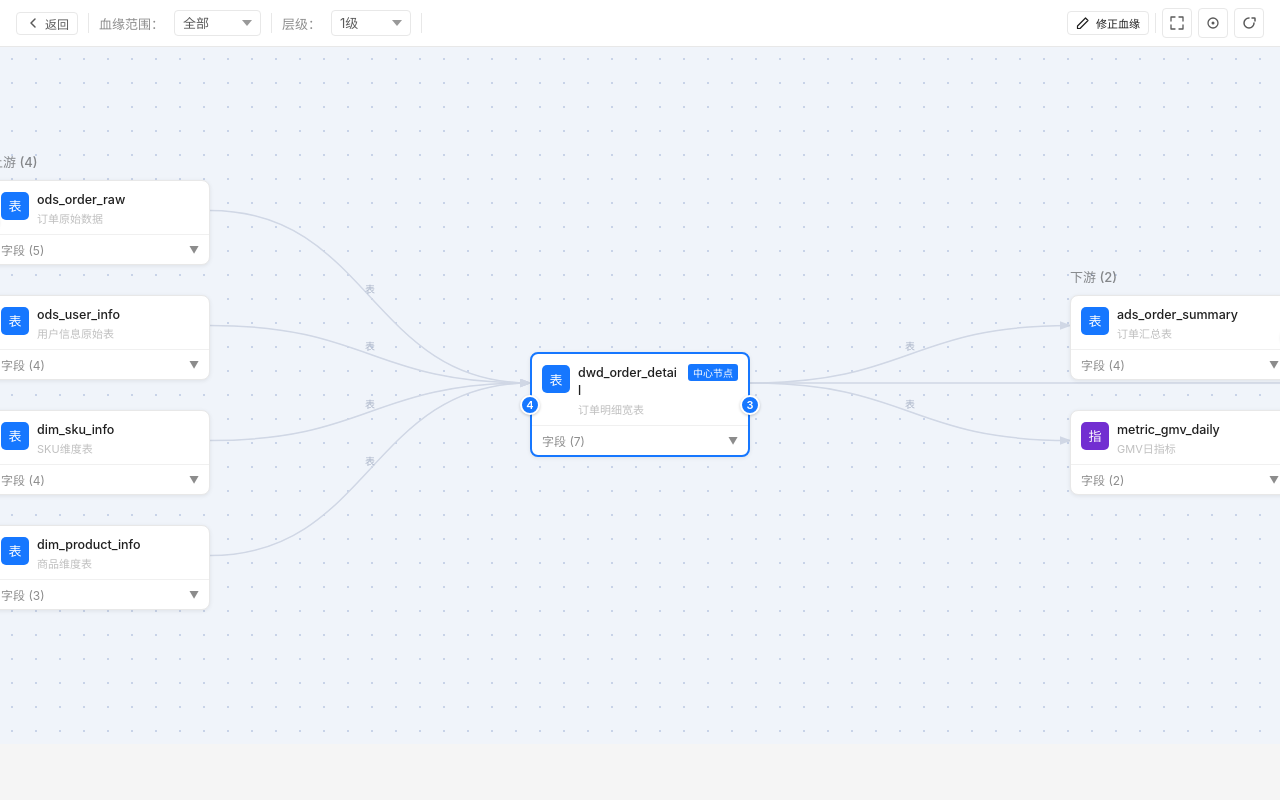
Test case: LineagePage lineage edit approval flow › marks an active field-level lineage row for deletion from the operation column
The width and height of the screenshot is (1280, 800).
Click the button "修正血缘": click(1108, 23) [1067,11,1149,35]
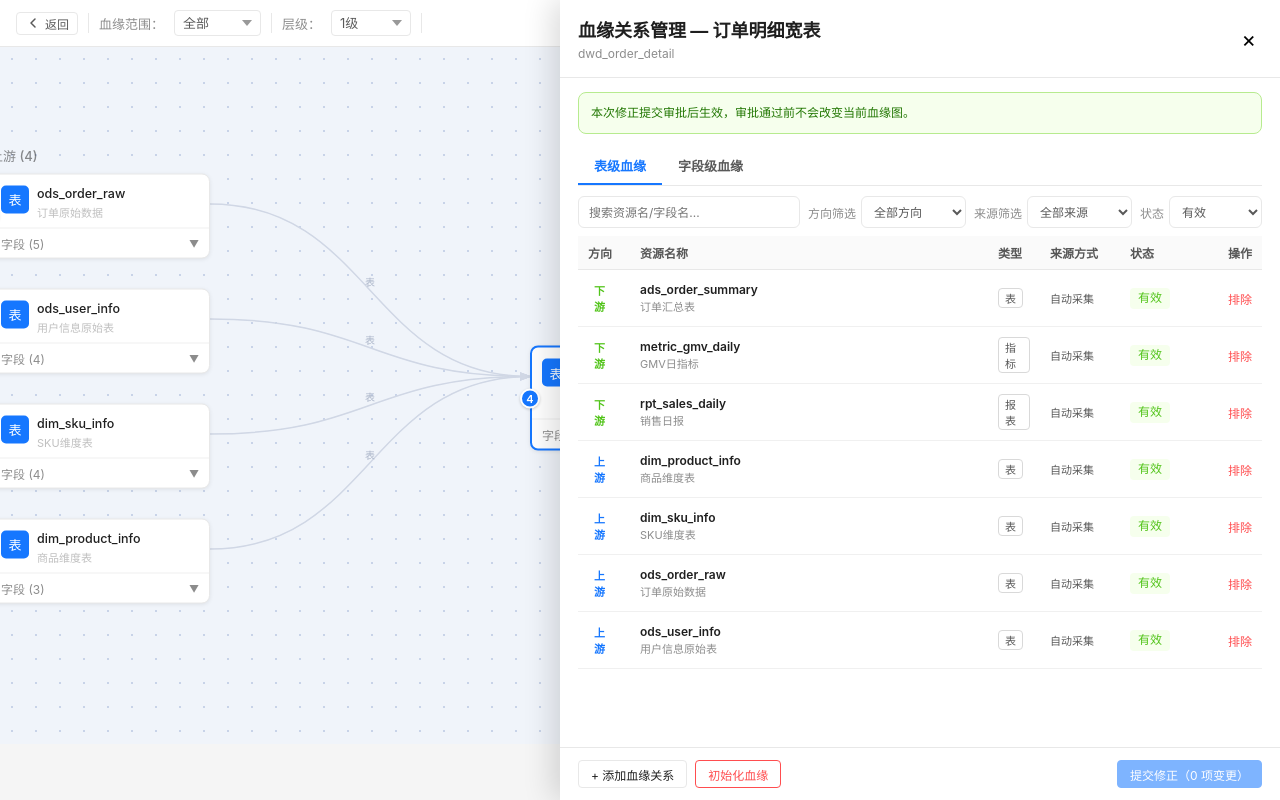
Click the tab "字段级血缘": click(710, 166) [662,146,759,185]
(page scrolled)
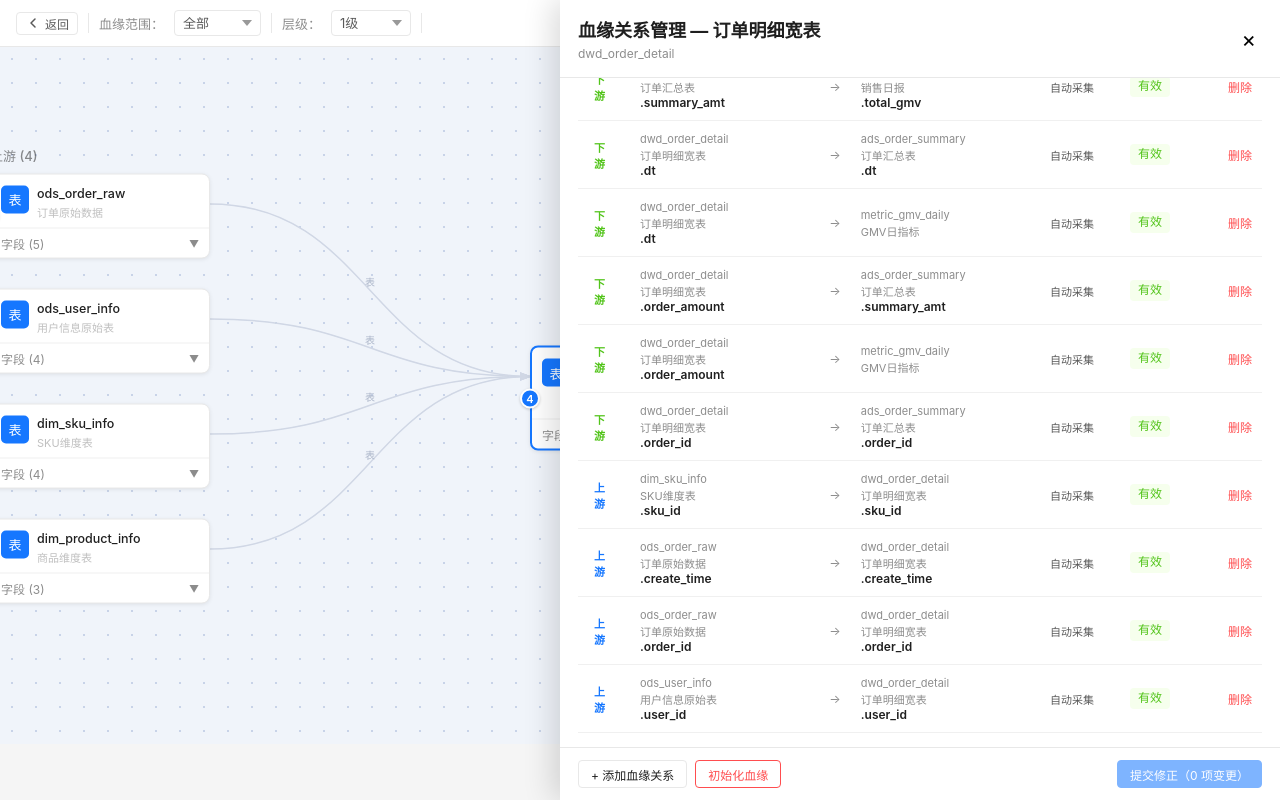
Result: the 9th text "有效" is shown at [1130,620,1170,641]
Result: the row that starts with "ods_order_raw" is shown at [578,597,1262,665]
Click the 9th button "删除": click(1240, 631) [1228,622,1252,639]
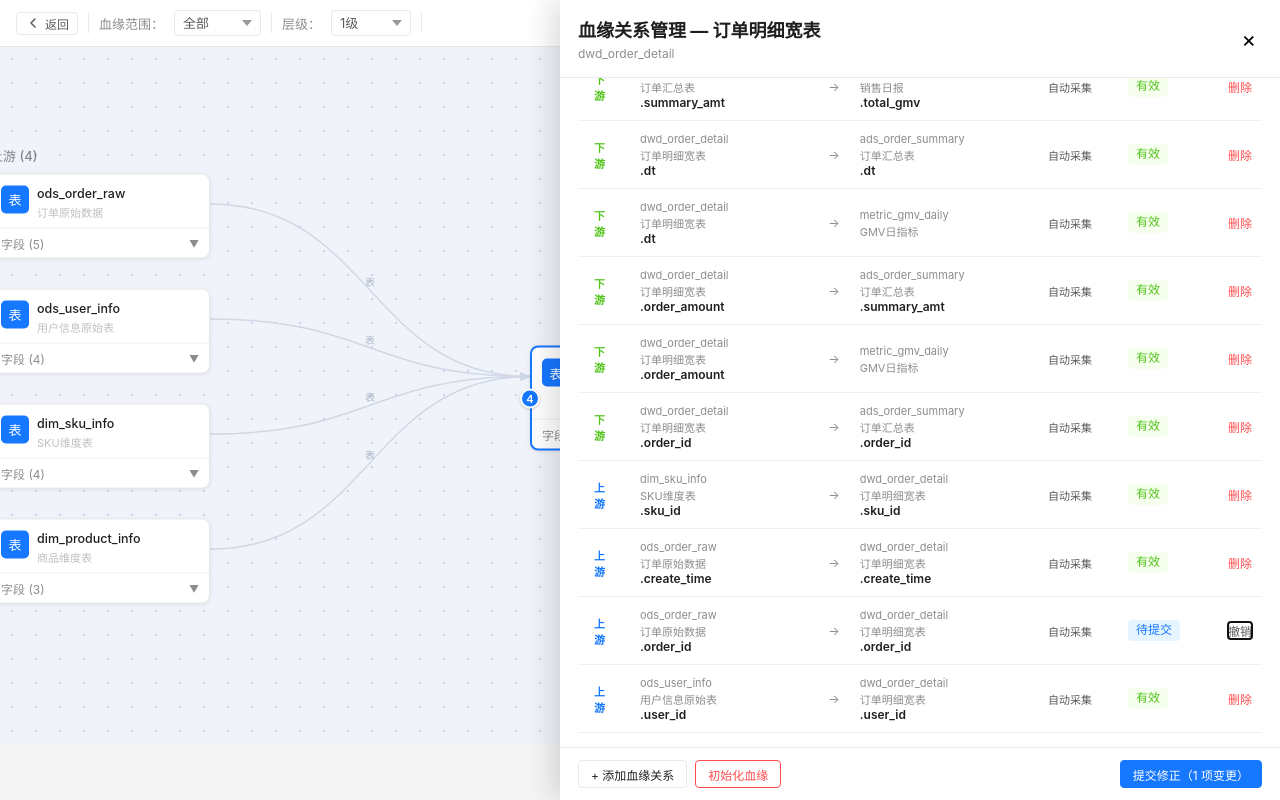
Result: the text "待提交" is shown at [1128,620,1180,641]
Result: the button "撤销" is shown at [1228,622,1252,639]
Result: the button "提交修正（1 项变更）" is enabled at [1120,760,1262,788]
